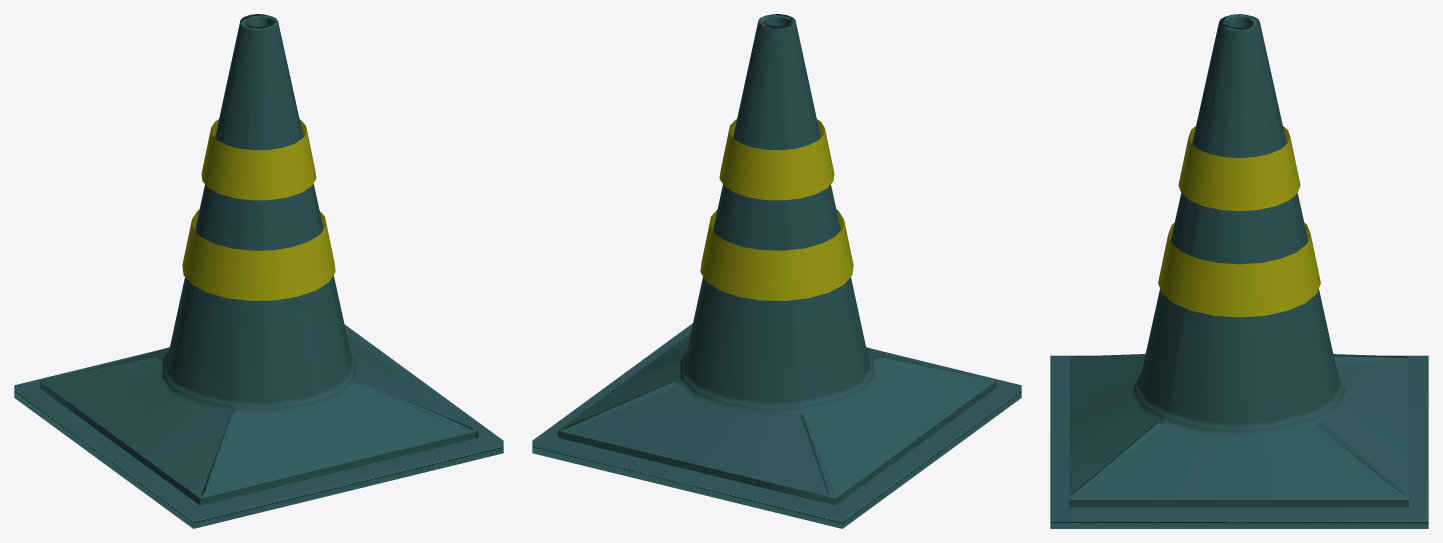
Rendered from Pylon.fbx.
3 views of the same model, side by side, from view 1: azimuth 30°, elevation 25°; view 2: azimuth 150°, elevation 25°; view 3: azimuth 270°, elevation 25° (orthographic). The views are drawn at different scales.
Visible parts, largest first — view 1: pCube4; view 2: pCube4; view 3: pCube4.
Boxes of the visible parts, x1,y1,x2,y2 form: pCube4: (14,14,503,528); pCube4: (532,14,1021,528); pCube4: (1050,14,1428,528).
Size of the model in its own units: 2.81 by 3.5 by 2.81.
